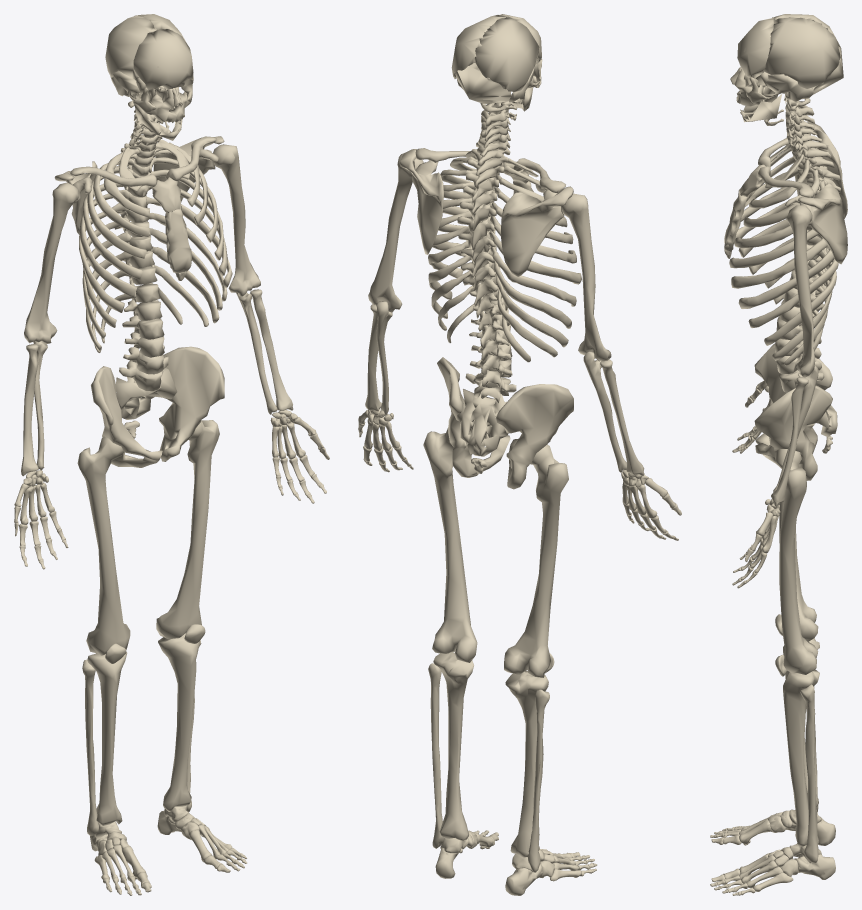
The model's file is body-mobile.glb.
The picture shows the model from 3 angles, left to right: view 1: azimuth 30°, elevation 25°; view 2: azimuth 150°, elevation 25°; view 3: azimuth 270°, elevation 25°; orthographic projection. The views are drawn at different scales.
Visible parts, largest first — view 1: za.femur-r, za.femur-l, za.hip-bone-l, za.tibia-l, za.tibia-r, za.frontal-bone, za.humerus-r, za.humerus-l, za.hip-bone-r, za.parietal-bone-r, za.sacrum, za.fibula-r (+20 smaller); view 2: za.femur-r, za.femur-l, za.hip-bone-r, za.scapula-r, za.parietal-bone-r, za.tibia-l, za.tibia-r, za.humerus-r, za.humerus-l, za.scapula-l, za.hip-bone-l, za.sacrum (+15 smaller); view 3: za.femur-l, za.parietal-bone-l, za.hip-bone-l, za.tibia-l, za.humerus-l, za.scapula-l, za.fibula-l, za.frontal-bone, za.hip-bone-r, za.radius-l, za.femur-r, za.seventh-rib-l (+27 smaller).
Boxes of the visible parts, x1,y1,x2,y2 form: za.femur-r: [77, 437, 130, 655]; za.femur-l: [156, 420, 219, 639]; za.hip-bone-l: [159, 346, 224, 461]; za.tibia-l: [158, 633, 200, 811]; za.tibia-r: [87, 652, 127, 825]; za.frontal-bone: [133, 29, 193, 90]; za.humerus-r: [24, 182, 78, 344]; za.humerus-l: [213, 144, 260, 296]; za.hip-bone-r: [91, 366, 162, 467]; za.parietal-bone-r: [105, 15, 156, 79]; za.sacrum: [116, 367, 177, 419]; za.fibula-r: [82, 659, 98, 835]; za.femur-r: [504, 444, 568, 677]; za.femur-l: [423, 427, 477, 662]; za.hip-bone-r: [495, 384, 573, 489]; za.scapula-r: [501, 186, 573, 276]; za.parietal-bone-r: [474, 16, 539, 93]; za.tibia-l: [433, 652, 473, 840]; za.tibia-r: [505, 671, 548, 857]; za.humerus-r: [561, 193, 611, 361]; za.humerus-l: [368, 153, 423, 312]; za.scapula-l: [399, 149, 443, 254]; za.hip-bone-l: [437, 357, 510, 477]; za.sacrum: [460, 389, 508, 456]; za.femur-l: [775, 449, 818, 674]; za.parietal-bone-l: [763, 17, 840, 88]; za.hip-bone-l: [754, 385, 832, 480]; za.tibia-l: [783, 669, 819, 846]; za.humerus-l: [786, 205, 815, 377]; za.scapula-l: [785, 183, 847, 264]; za.fibula-l: [800, 684, 818, 863]; za.frontal-bone: [737, 17, 774, 78]; za.hip-bone-r: [754, 343, 832, 453]; za.radius-l: [771, 376, 808, 506]; za.femur-r: [779, 501, 818, 641]; za.seventh-rib-l: [738, 249, 834, 308].
Bounding box in the file's own units: 0.6692 × 1.7 × 0.2507.
